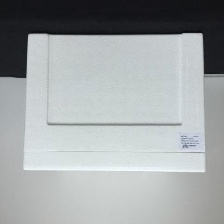foam_box: (18, 29, 209, 175)
